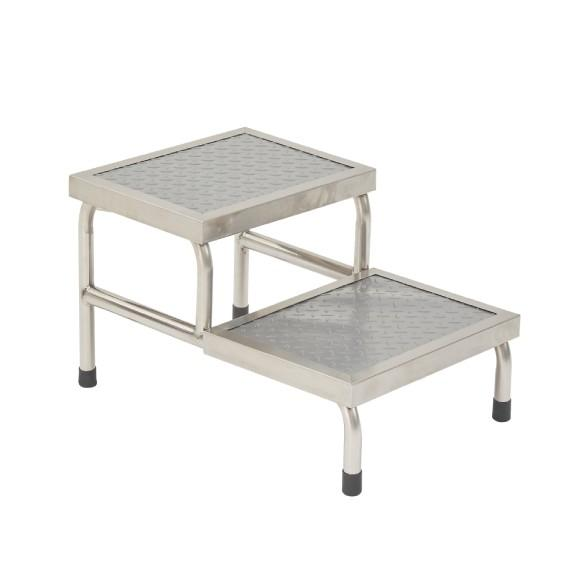stool: (59, 104, 544, 499)
